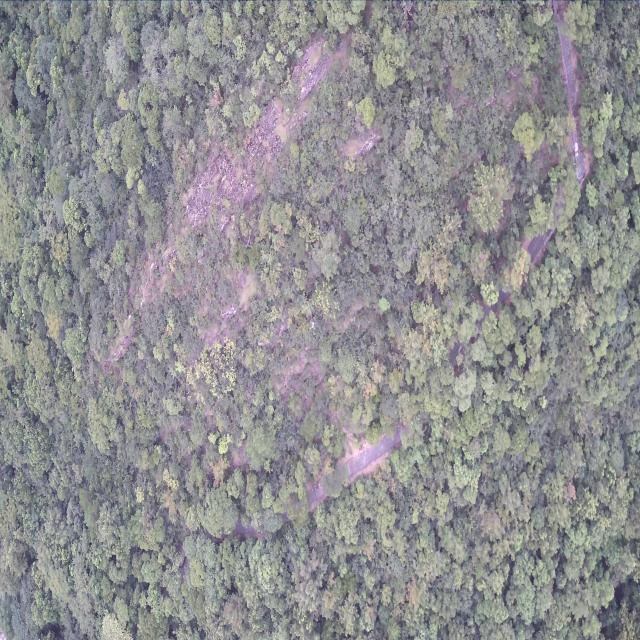drone: (310, 320, 316, 330)
